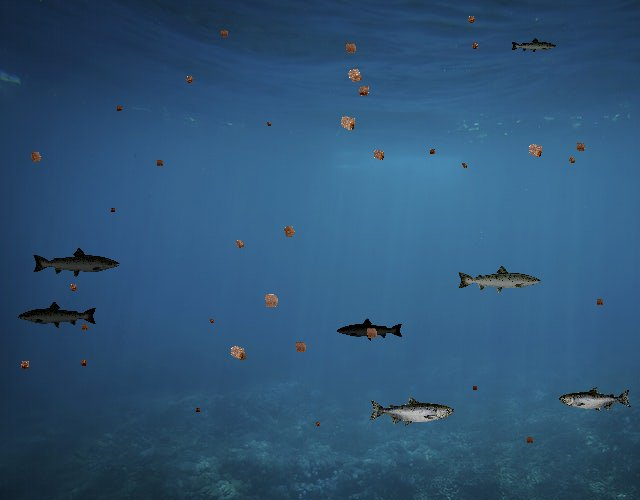Fish: (32, 247, 122, 279), (456, 264, 542, 295), (368, 396, 454, 427), (17, 300, 98, 330), (559, 387, 632, 413), (336, 317, 404, 342), (510, 38, 557, 55)
Pellet: (571, 138, 590, 157), (348, 67, 367, 86), (426, 145, 439, 158), (113, 103, 125, 115), (206, 316, 216, 326)
